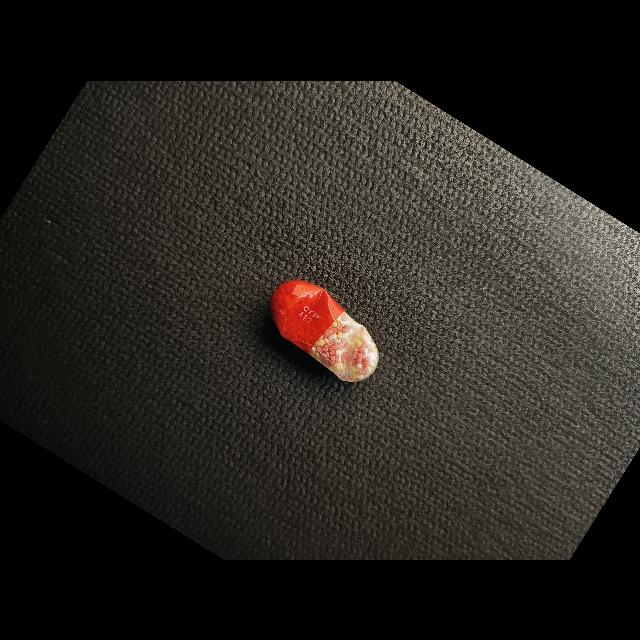Defective Capsule: (270, 279, 379, 381)
